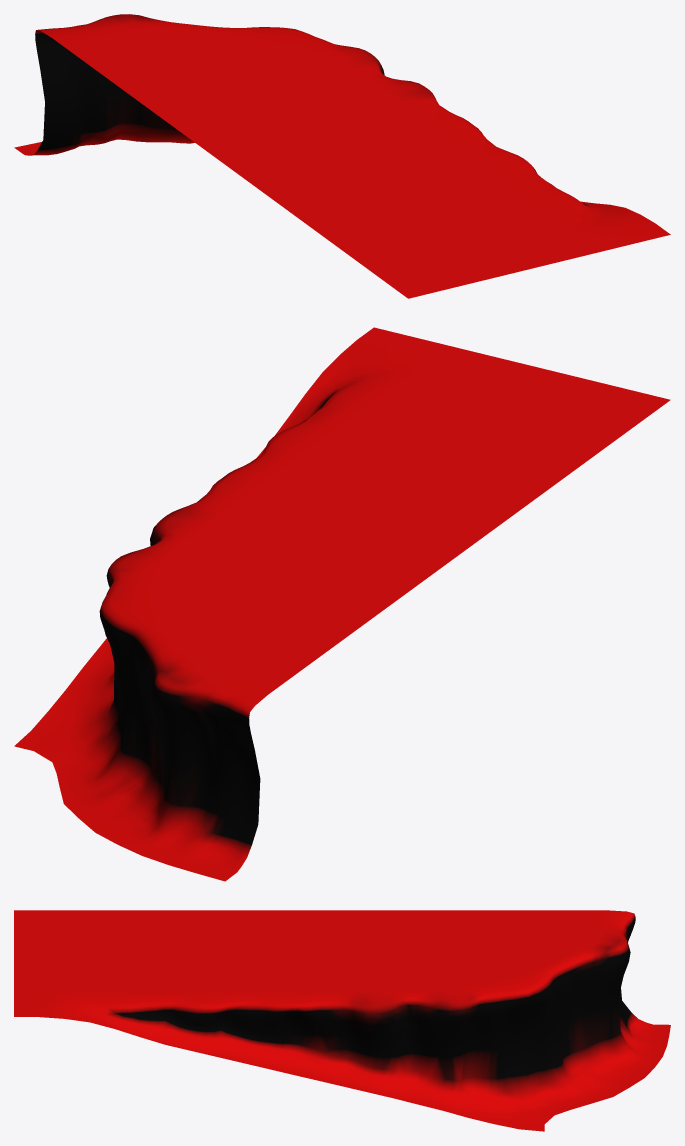
The model's file is ClimbCliff01D 1M Foreground.fbx.
3 renders of one model, top to bottom at view 1: azimuth 30°, elevation 25°; view 2: azimuth 150°, elevation 25°; view 3: azimuth 270°, elevation 25°, orthographic. The views are drawn at different scales.
Parts seen in each view (by area): view 1: ClimbCliff01D 1M Foreground; view 2: ClimbCliff01D 1M Foreground; view 3: ClimbCliff01D 1M Foreground.
Boxes of the visible parts, bbox=[...] form: ClimbCliff01D 1M Foreground: bbox=[14, 14, 670, 298]; ClimbCliff01D 1M Foreground: bbox=[14, 327, 670, 881]; ClimbCliff01D 1M Foreground: bbox=[14, 910, 670, 1131].
Size of the model in its own units: 2 by 1 by 5.2.
